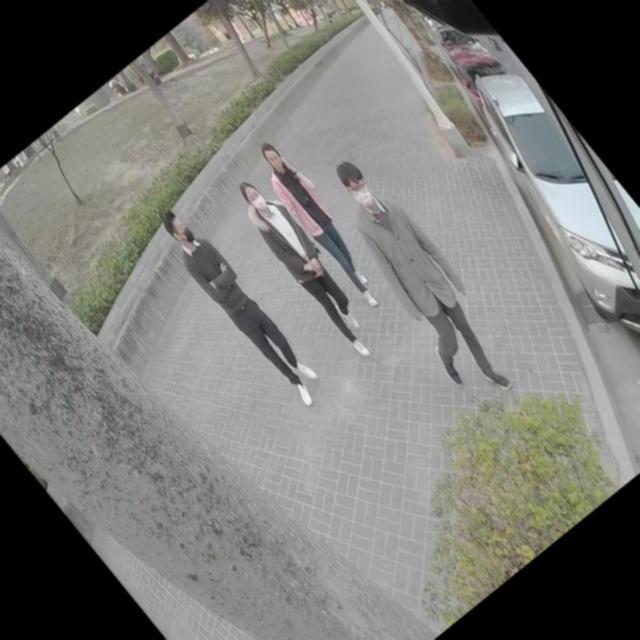person: (300, 148, 534, 413), (148, 198, 330, 411), (219, 165, 394, 366), (242, 130, 402, 314)
